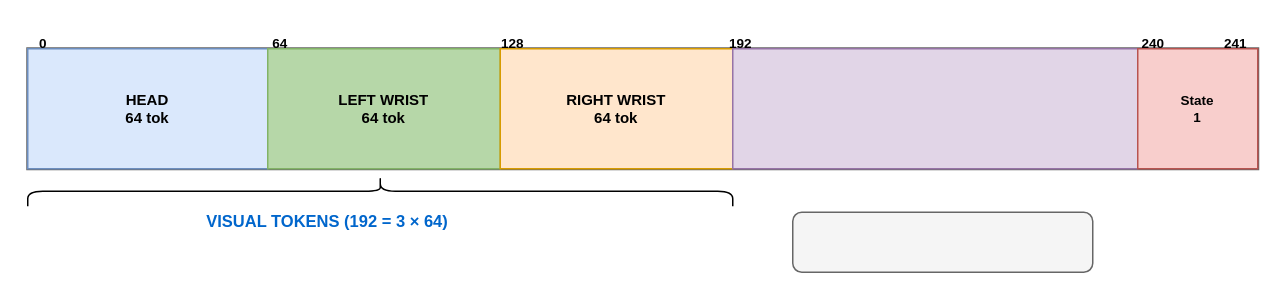
Some shapes in this 1284 by 299 pixel diagram are drawn without their labels. Each missing label, with the centre of its shape:
Each token: 768 dimensions Total: 241 × 768 = 184,896 values: point (942, 241)
LANGUAGE 48 tok: point (934, 108)
